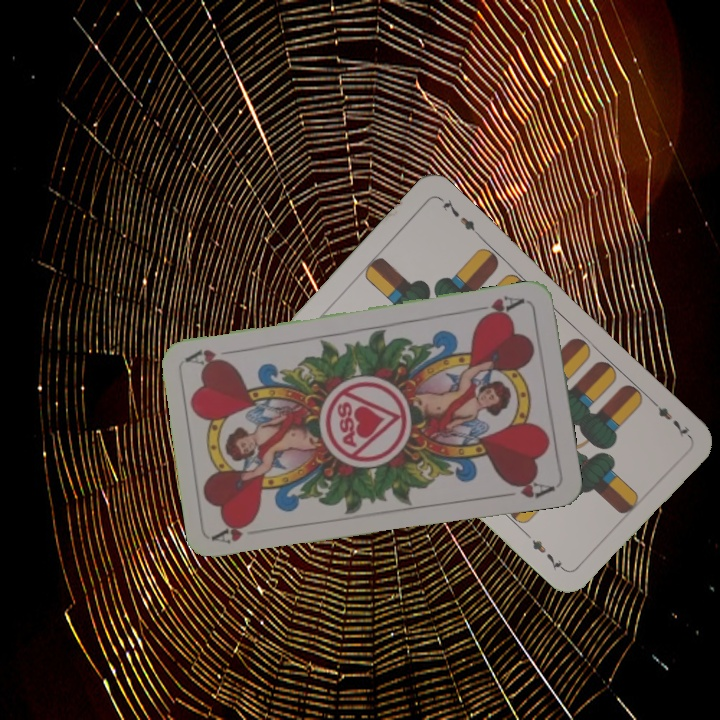E7: (645, 394, 692, 440)
HA: (470, 291, 528, 322), (211, 517, 270, 547)
